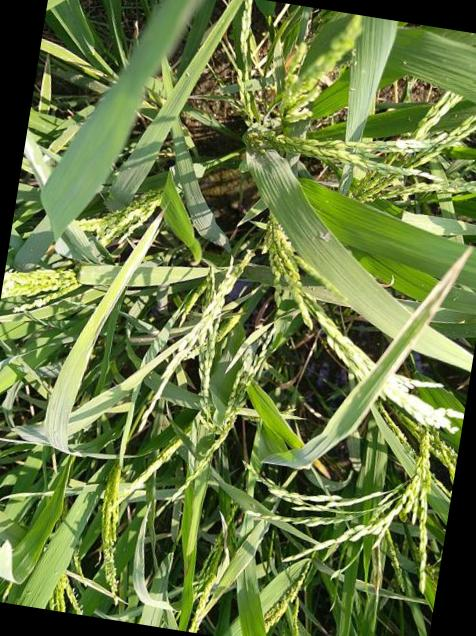Leaf Blight: (291, 245, 474, 460), (83, 211, 163, 362), (24, 128, 51, 186)
